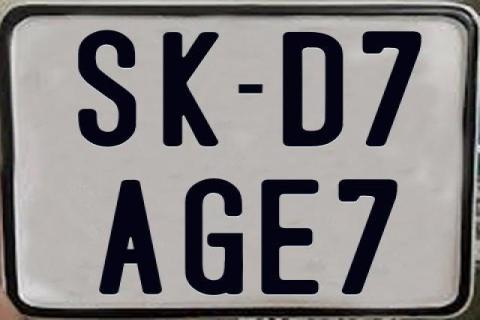0: (362, 29, 426, 147), (335, 179, 398, 297)
A: (97, 180, 163, 298)
D: (282, 30, 344, 148)
E: (259, 178, 320, 296)
G: (182, 178, 242, 300)
K: (160, 32, 221, 150)
S: (75, 29, 138, 149)
